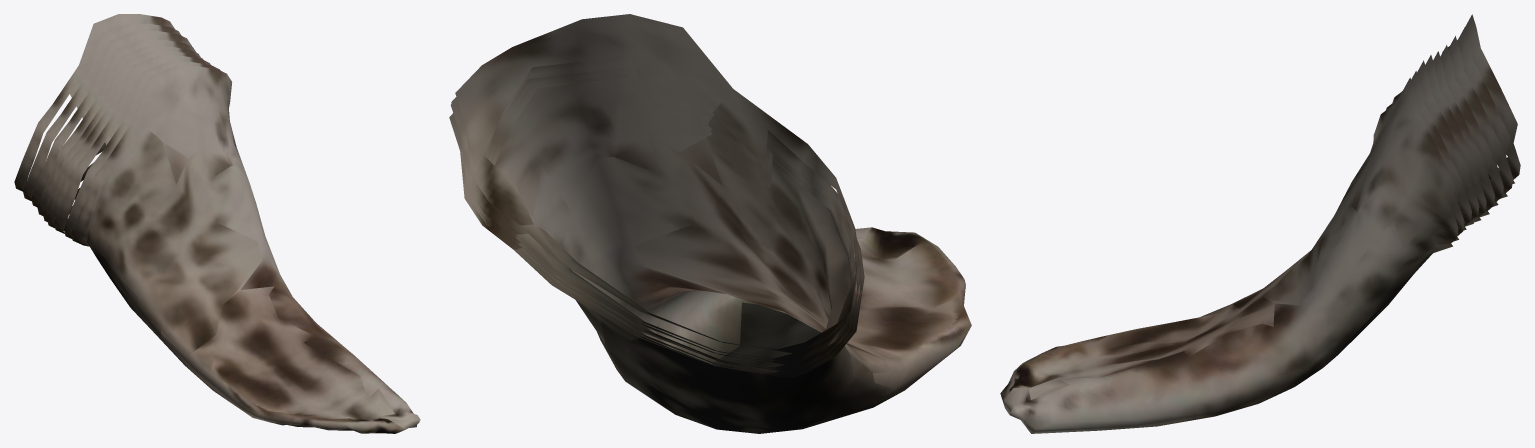
File: FocaDer.obj
3 views of the same model, side by side, from view 1: azimuth 30°, elevation 25°; view 2: azimuth 150°, elevation 25°; view 3: azimuth 270°, elevation 25° (orthographic). The views are drawn at different scales.
Parts seen in each view (by area): view 1: FocaDer; view 2: FocaDer; view 3: FocaDer.
Boxes of the visible parts, x1,y1,x2,y2 form: FocaDer: [14, 14, 420, 433]; FocaDer: [449, 14, 971, 433]; FocaDer: [1000, 14, 1520, 433].
Bounding box in the file's own units: 0.1023 × 0.1329 × 0.1803.
1 material, 1 textured.
